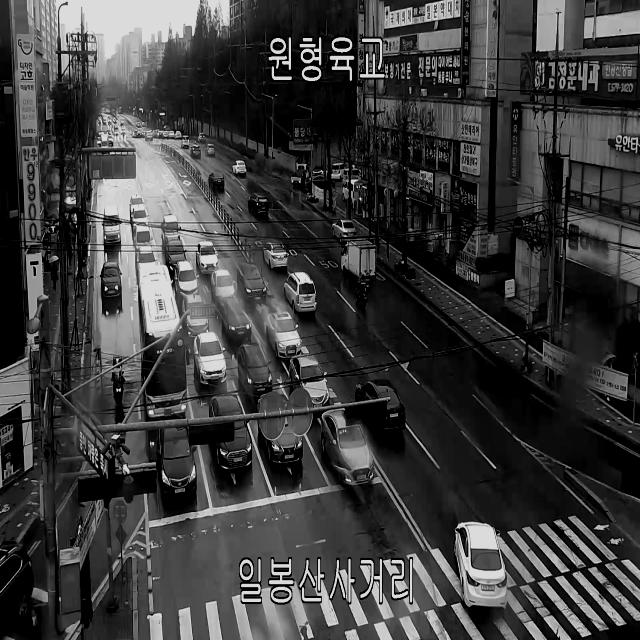Bus: (138, 265, 190, 418)
Car: (453, 521, 508, 610), (320, 408, 374, 486), (0, 540, 34, 640), (209, 394, 253, 470), (257, 393, 303, 464), (157, 427, 197, 499), (355, 379, 405, 431), (290, 354, 330, 408), (238, 343, 272, 398), (193, 332, 227, 385), (266, 311, 301, 359), (284, 272, 317, 312), (222, 298, 252, 340), (182, 294, 209, 338), (174, 260, 200, 304), (237, 263, 266, 302), (211, 269, 235, 303), (100, 262, 122, 298), (102, 206, 122, 244), (196, 242, 219, 274), (165, 240, 187, 272), (136, 246, 158, 277), (263, 242, 288, 268), (331, 219, 357, 242), (342, 179, 362, 206), (248, 193, 269, 217), (136, 226, 152, 252), (131, 207, 149, 230), (130, 194, 146, 218), (342, 169, 362, 186), (306, 173, 328, 187), (208, 172, 224, 189), (332, 162, 344, 182), (232, 160, 247, 174), (313, 167, 328, 179), (190, 144, 201, 158), (205, 144, 215, 155), (182, 136, 190, 148), (174, 130, 182, 140), (145, 131, 153, 141), (198, 133, 205, 142), (348, 164, 360, 169)
Motorcycle: (106, 352, 130, 414), (354, 272, 371, 311)
Truck: (341, 238, 376, 282), (161, 214, 181, 247), (290, 164, 309, 187)
